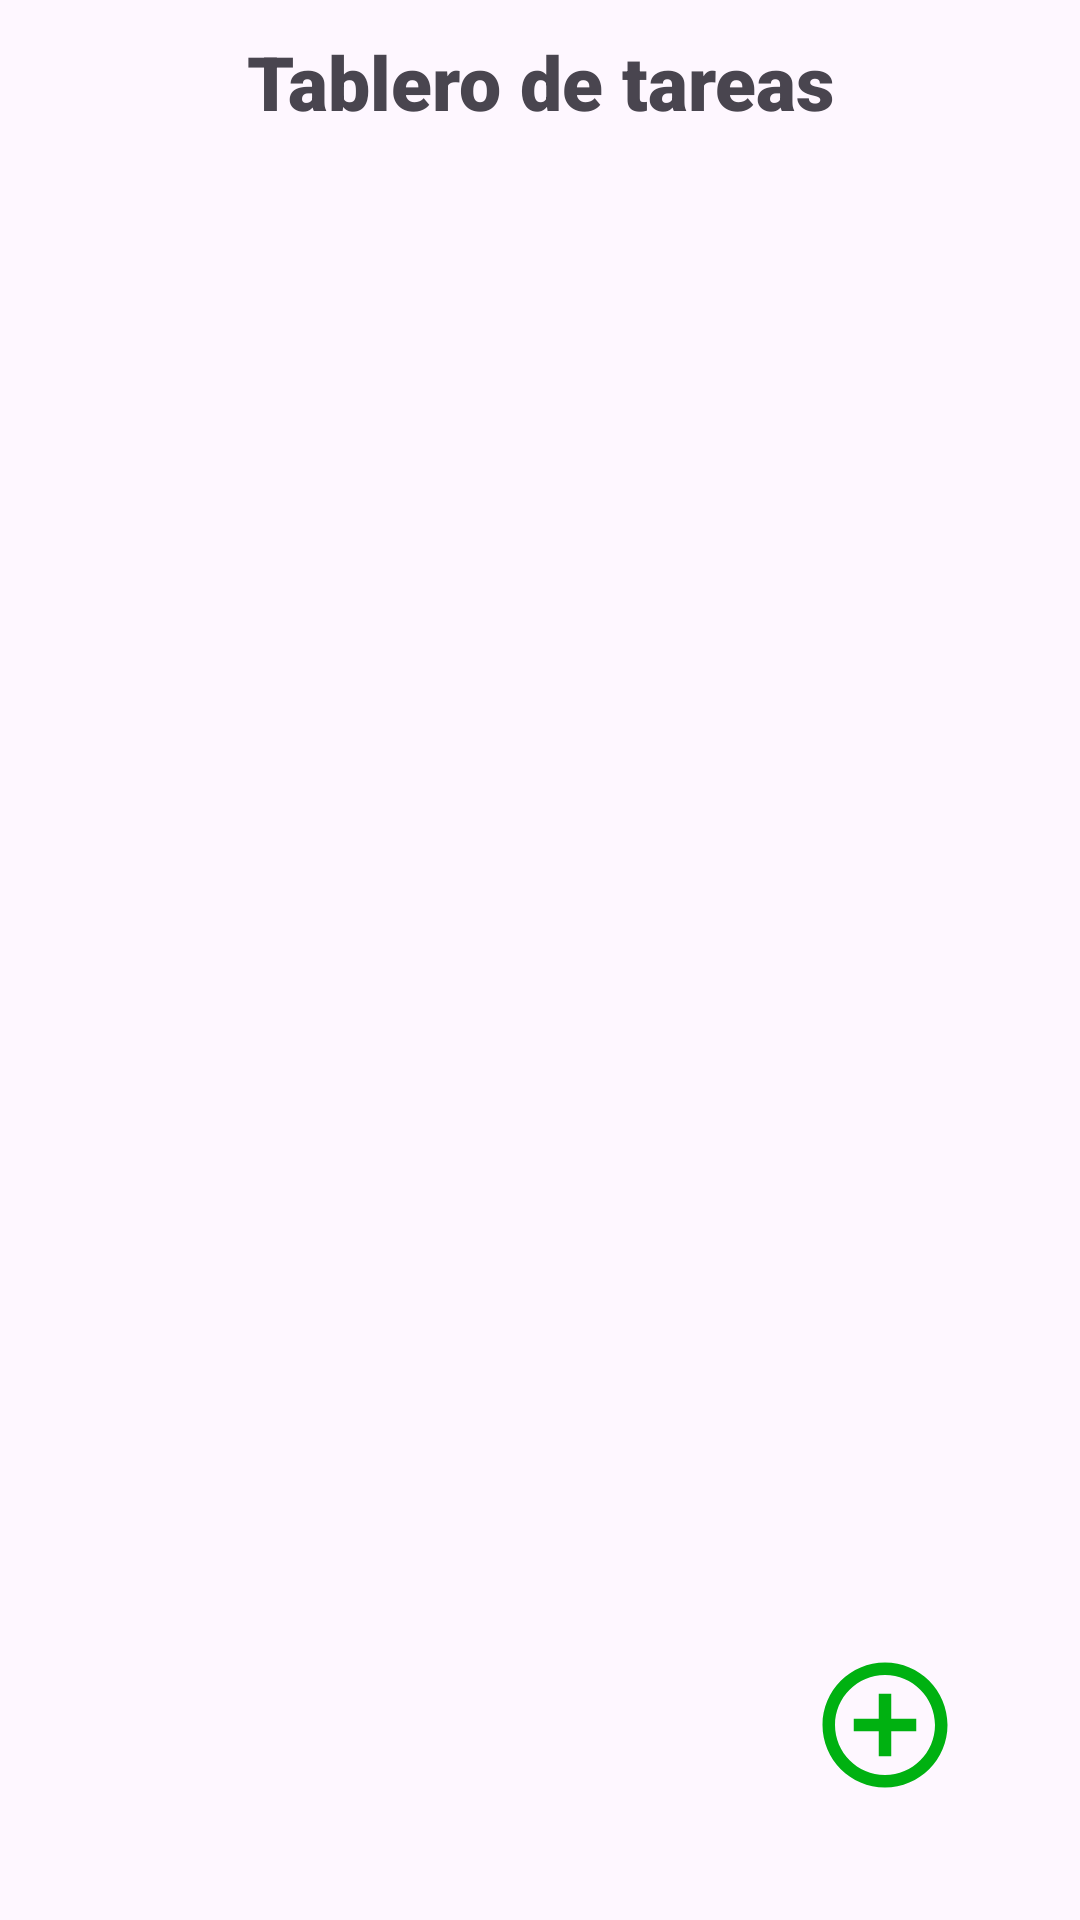

Icons on this 1080px x 1920px Android screen, each with the point to tap as [x,y]:
add: [885,1725]
